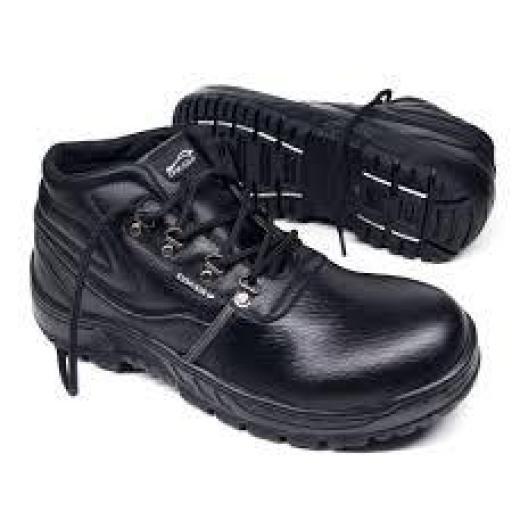safety_boots: (1, 131, 503, 471), (168, 62, 498, 251)
